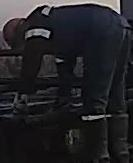gloves: (11, 83, 31, 115)
helmet: (2, 18, 24, 51)
vest: (24, 3, 132, 63)
